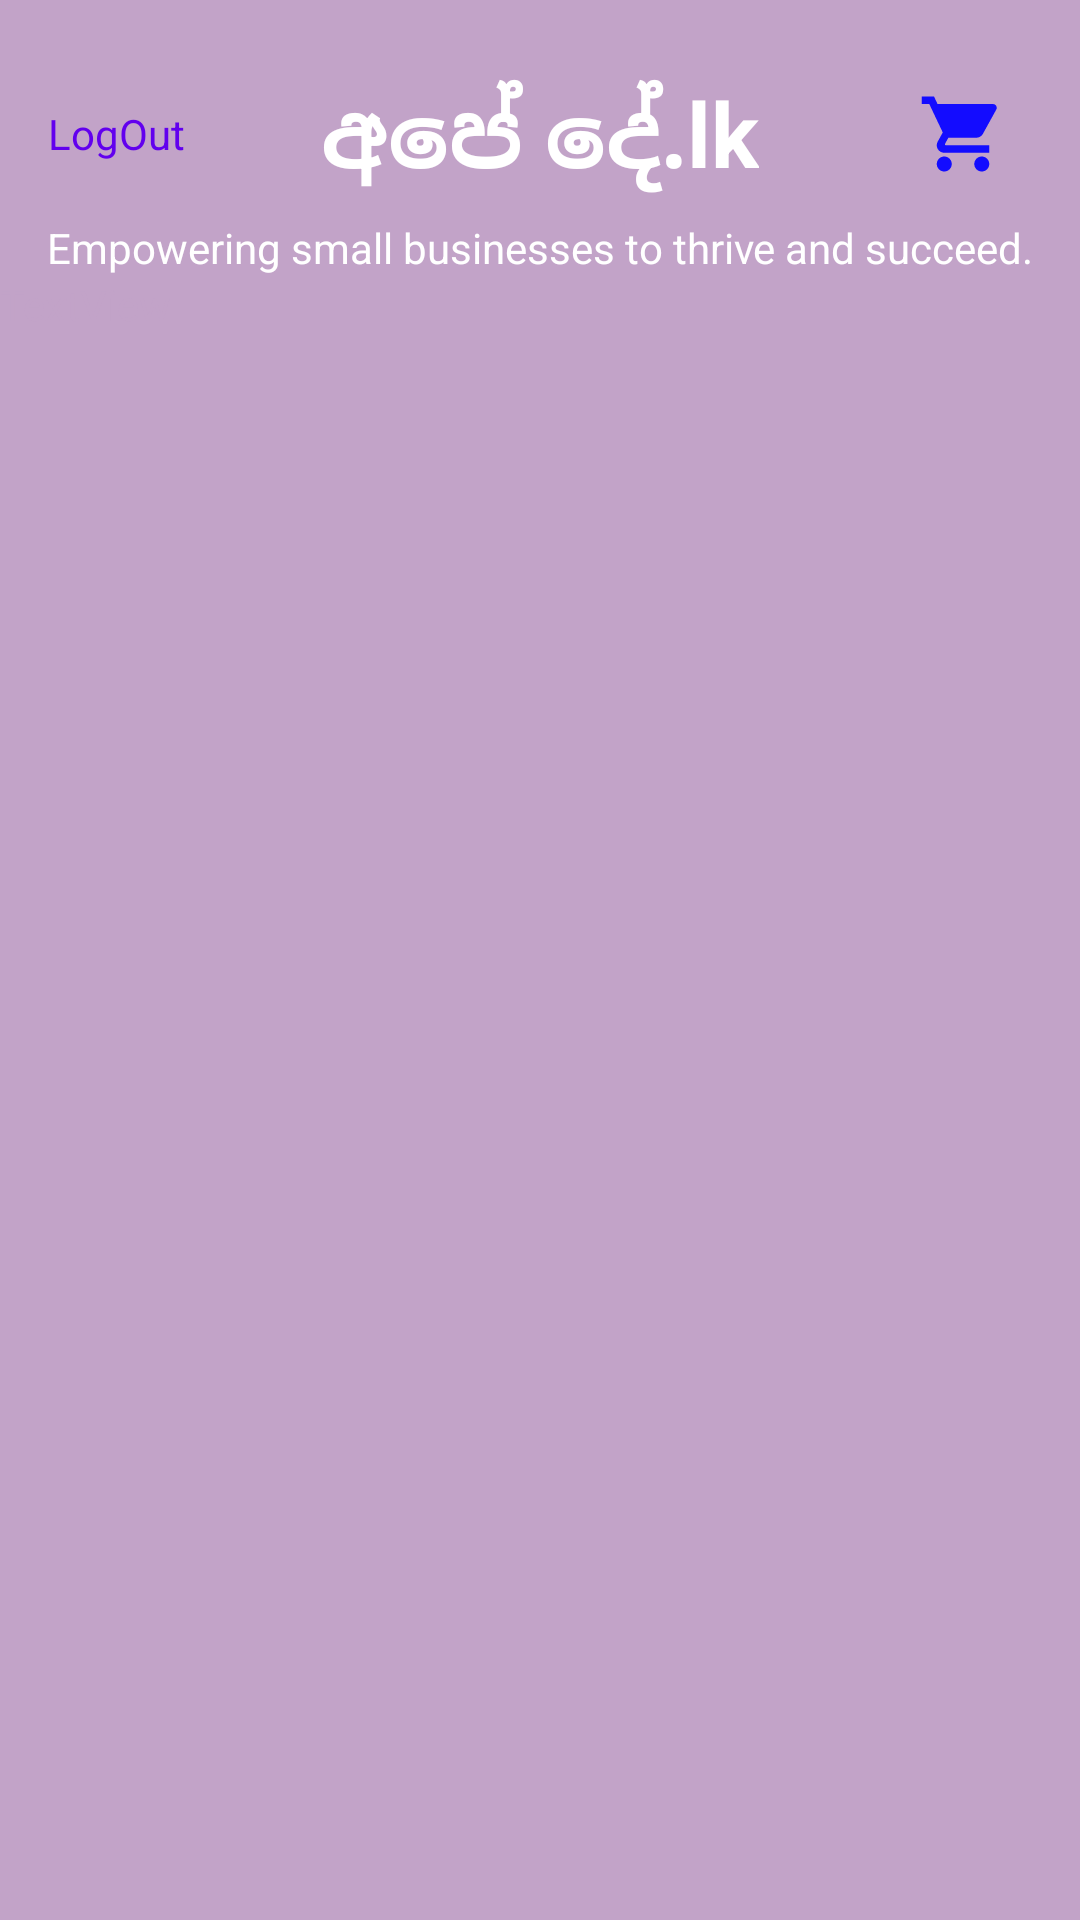

Point at icon controls on the screen. Image size 1080 x 1920, points as (x,y).
shopping cart: (959,134)
